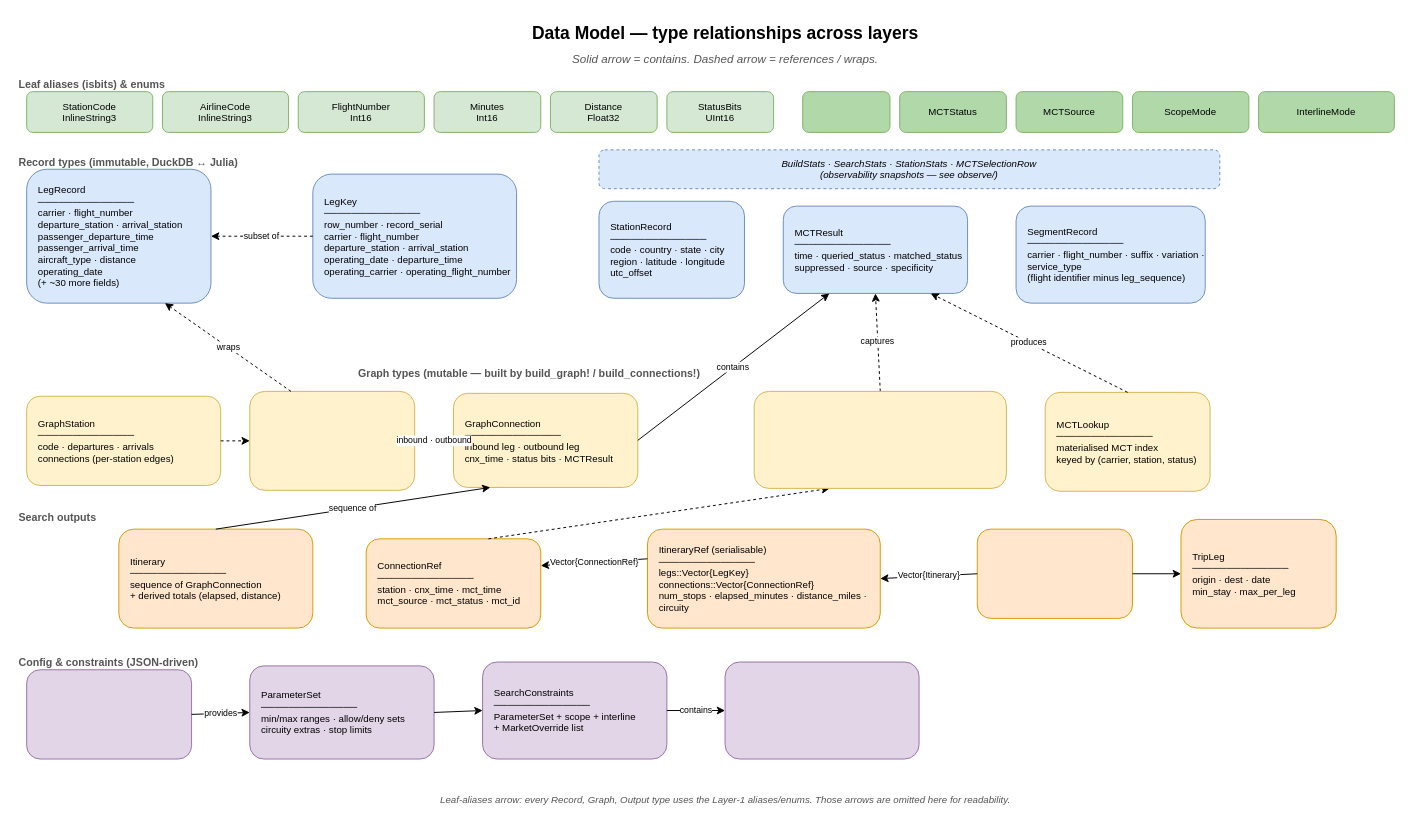
This 1411x833 diagram has some shape labels left out. The shapes that lost their labels are listed below. From the top down, each one's centre as x and y in pixels, then its label:
At pixel 846 111: "Cabin".
At pixel 332 440: "GraphLeg ────────────── wraps a LegRecord + graph-local indices / status".
At pixel 879 439: "GraphSegment ────────────── aggregates legs under one flight identifier".
At pixel 1054 573: "Trip ────────────── Vector{Itinerary} per leg + score (TripScoringWeights)".
At pixel 109 714: "SearchConfig ────────────── windows · rule toggles MCT modes · feature flags".
At pixel 821 710: "MarketOverride ────────────── per (origin, dest) parameter patches".
